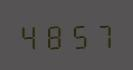eight: (42, 20, 65, 50)
five: (66, 19, 89, 49)
four: (18, 20, 41, 50)
seven: (90, 19, 113, 49)
